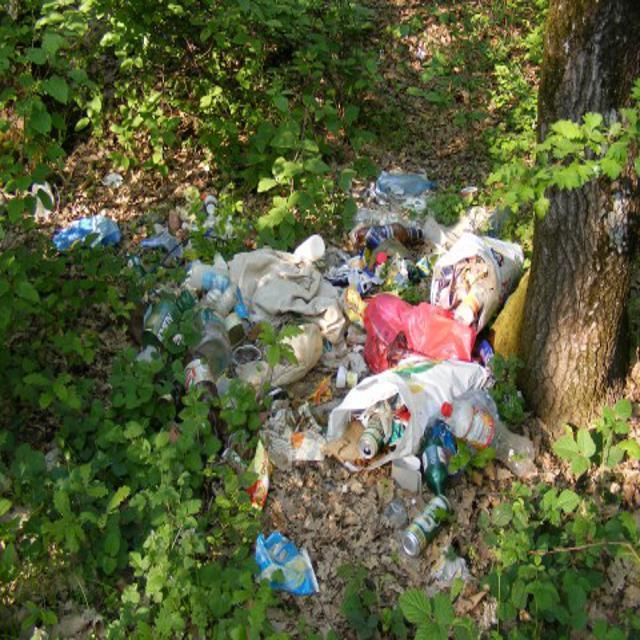garbage: (36, 130, 544, 605)
